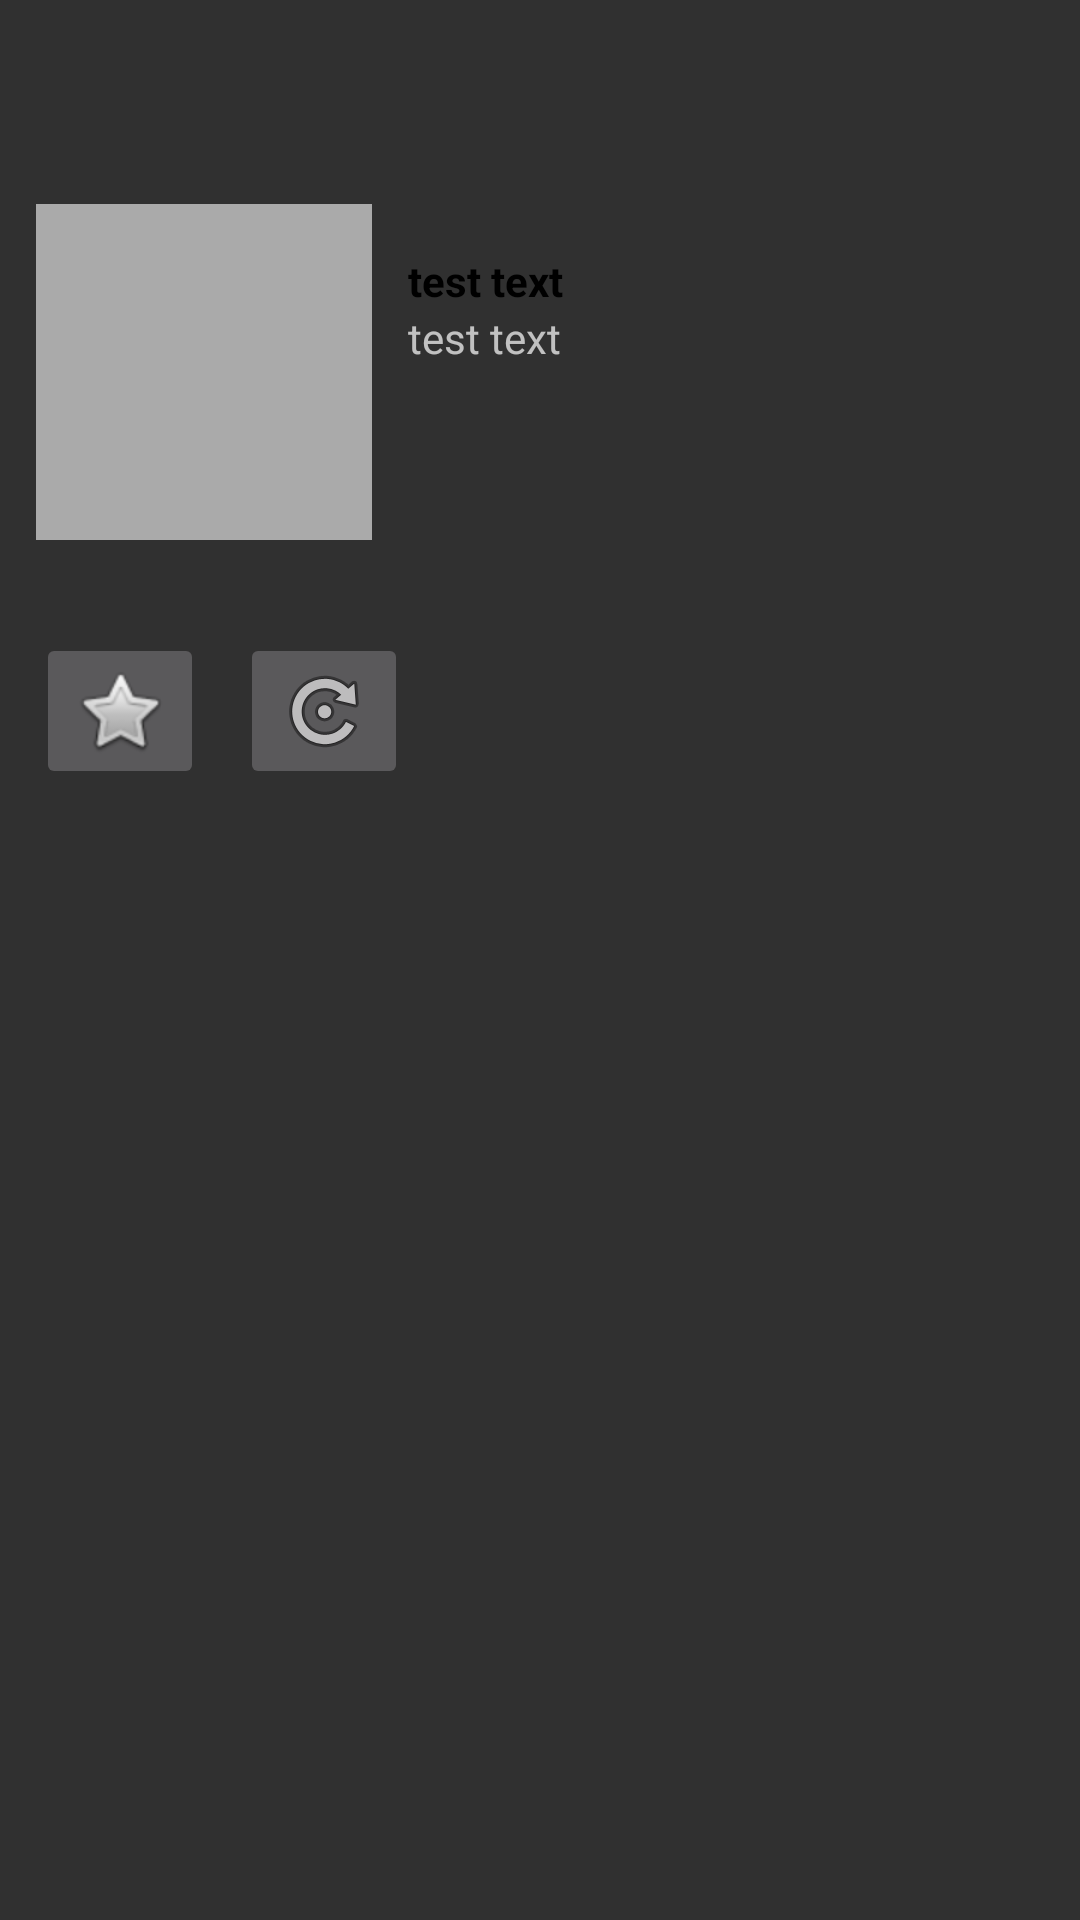

Icon click points for this 1080w x 1920h phone screenshot, format [x,y]:
rotate: [324,711]
star off: [120,711]
